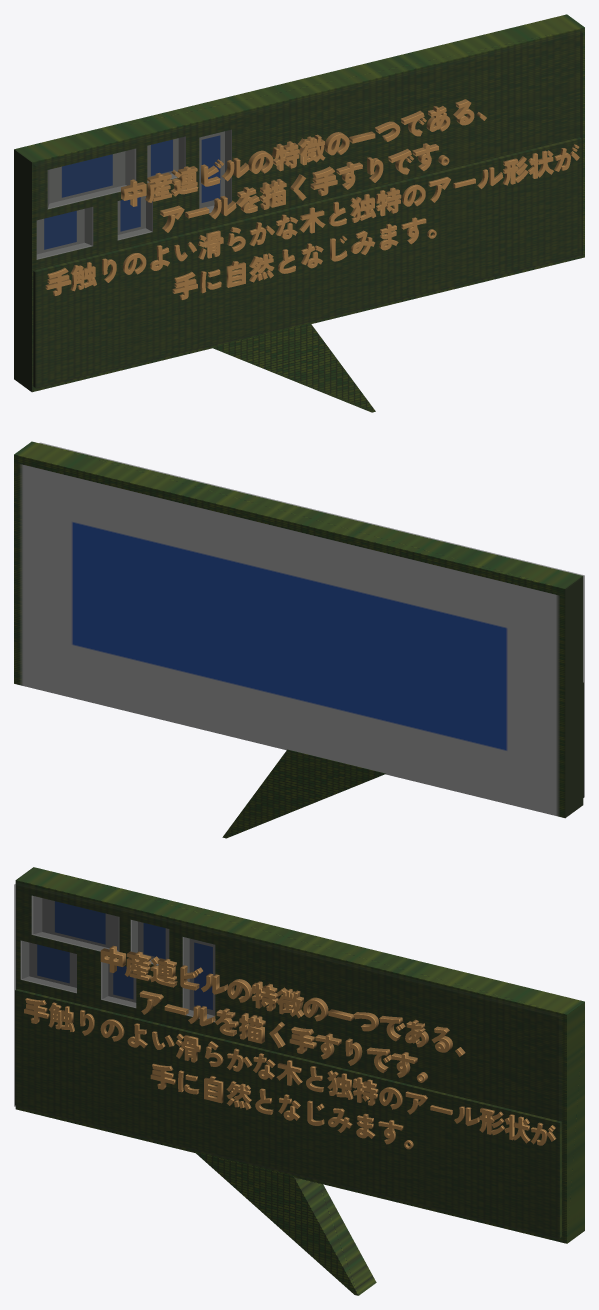
File: c-fukidasi-tesuri.glb
3 views of the same model, one above another, from view 1: azimuth 30°, elevation 25°; view 2: azimuth 150°, elevation 25°; view 3: azimuth 330°, elevation 25° (orthographic).
Parts seen in each view (by area): view 1: 立方体.003, 立方体, 立方体.002, テキスト, 立方体.001; view 2: 立方体, 立方体.001, 立方体.003; view 3: 立方体.003, 立方体, 立方体.002, テキスト, 立方体.001.
Boxes of the visible parts, <box> form: 立方体.003: <box>33,31,582,388</box>; 立方体: <box>14,14,584,392</box>; 立方体.002: <box>33,137,581,387</box>; テキスト: <box>45,99,579,299</box>; 立方体.001: <box>211,323,375,412</box>; 立方体: <box>14,441,583,818</box>; 立方体.001: <box>222,749,385,838</box>; 立方体.003: <box>39,442,584,797</box>; 立方体.003: <box>14,883,561,1239</box>; 立方体: <box>15,867,584,1243</box>; 立方体.002: <box>15,989,561,1238</box>; テキスト: <box>24,945,556,1149</box>; 立方体.001: <box>195,1152,376,1295</box>.
Bounding box in the file's own units: 11.12 × 6.4 × 0.7575.
Materials: 5 (3 with a texture image).
